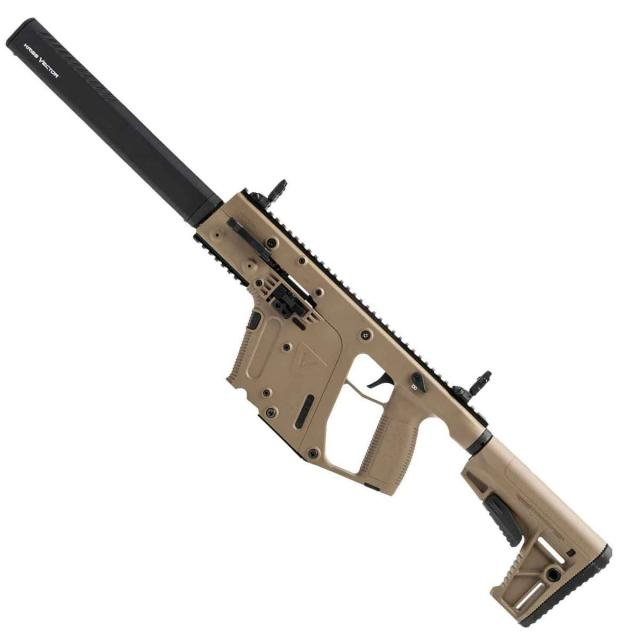SMG: (7, 18, 615, 630)
